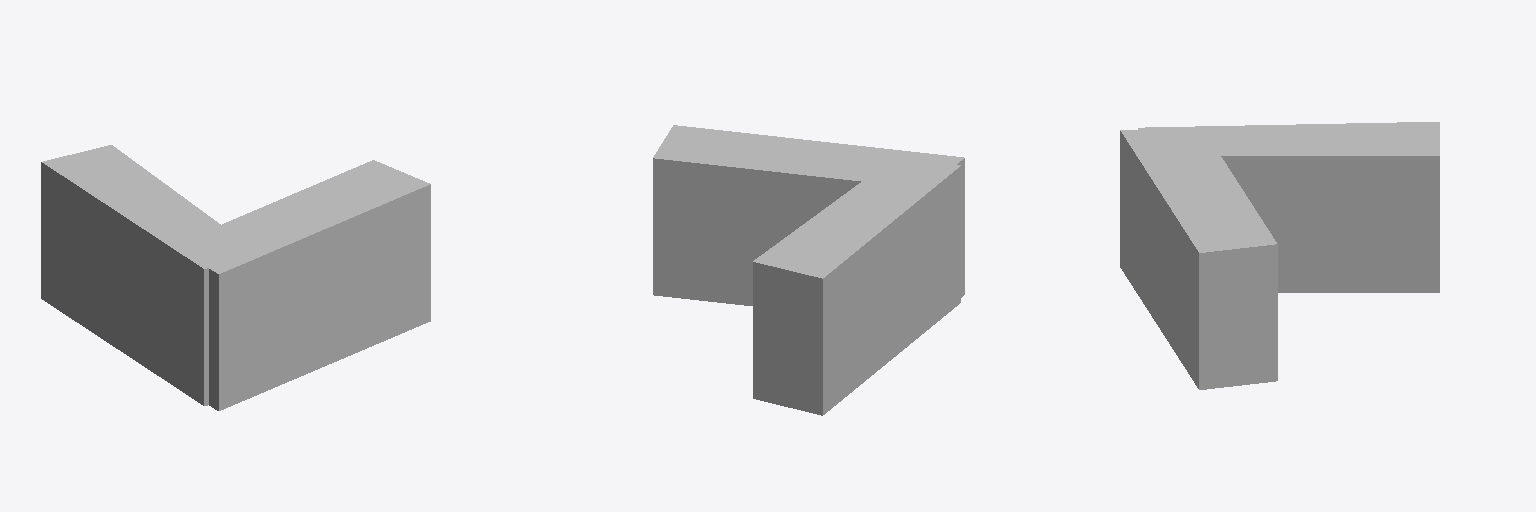
File: Wallet.obj
3 views of the same model, side by side, from view 1: azimuth 30°, elevation 25°; view 2: azimuth 150°, elevation 25°; view 3: azimuth 270°, elevation 25° (orthographic).
Parts seen in each view (by area): view 1: Cube (1); view 2: Cube (1); view 3: Cube (1).
Part boxes in pixels (left/top/right/bottom): Cube (1): left=41, top=145, right=430, bottom=410; Cube (1): left=653, top=125, right=964, bottom=415; Cube (1): left=1120, top=122, right=1439, bottom=389.
Size of the model in its own units: 0.1253 by 0.0609 by 0.1285.